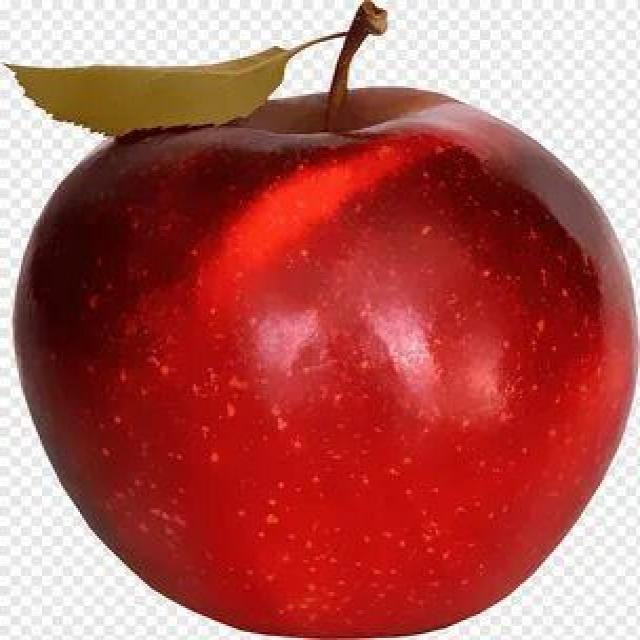Fresh Apple: (6, 78, 639, 640)
